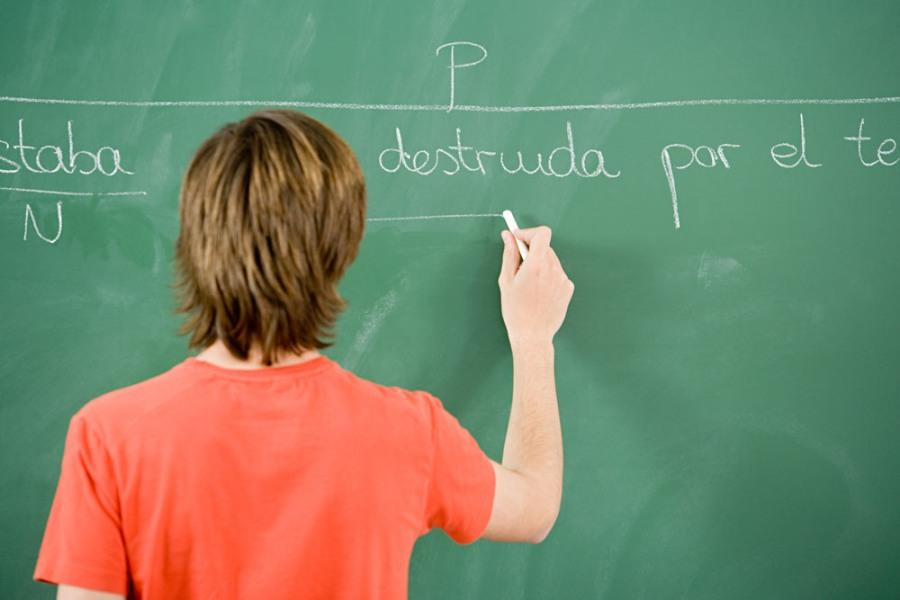person: (41, 110, 576, 600)
